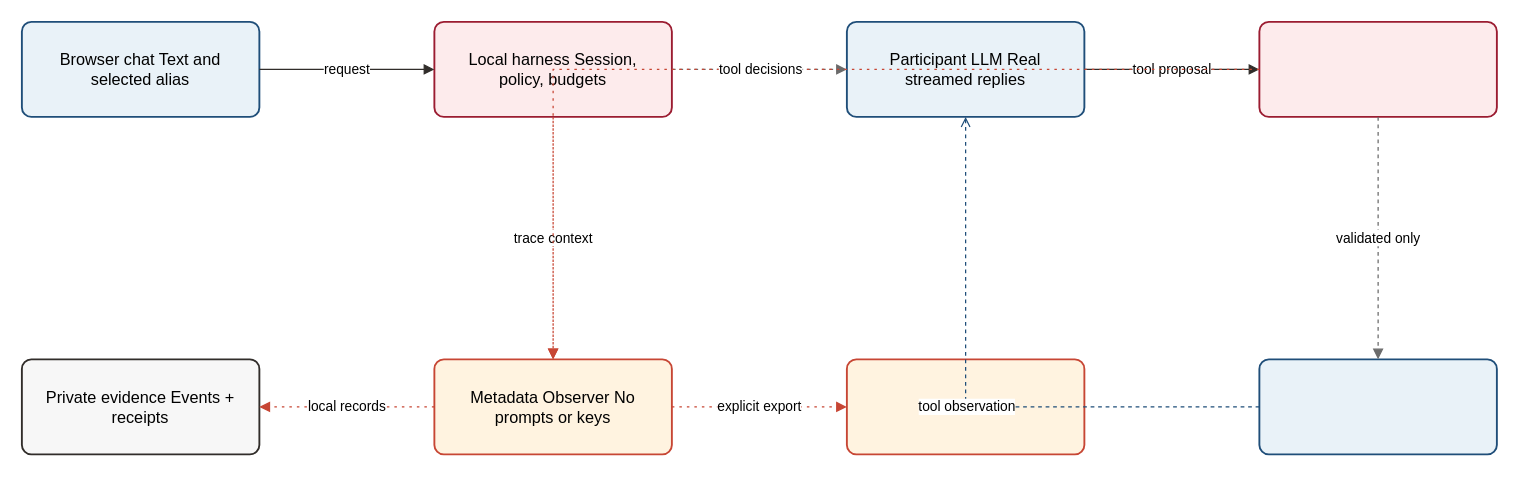
Some shapes in this 1520 by 478 pixel diagram are drawn without their labels. Each missing label, with the centre of its shape:
"Optional Langfuse Own project + readback" goes at [965,406].
"Read-only handlers Synthetic training data" goes at [1377,406].
"Tool validator Allowlist + JSON schema" goes at [1377,68].
